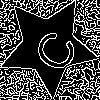C: (23, 21, 81, 77)
